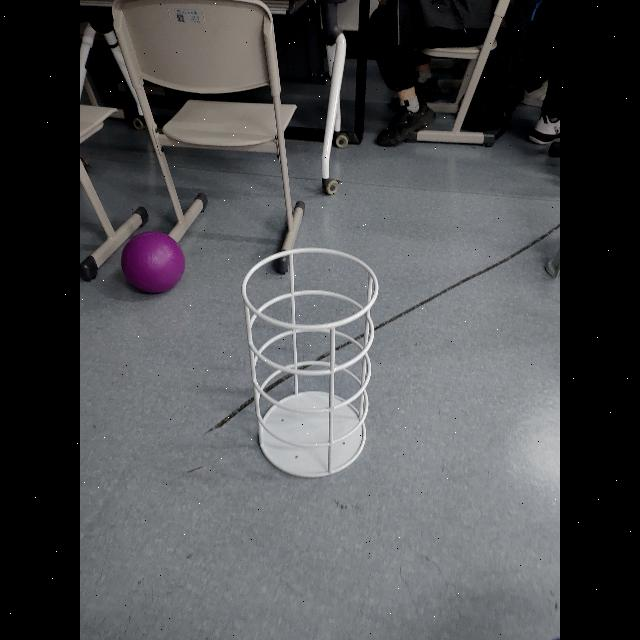S: (240, 244, 378, 482)
